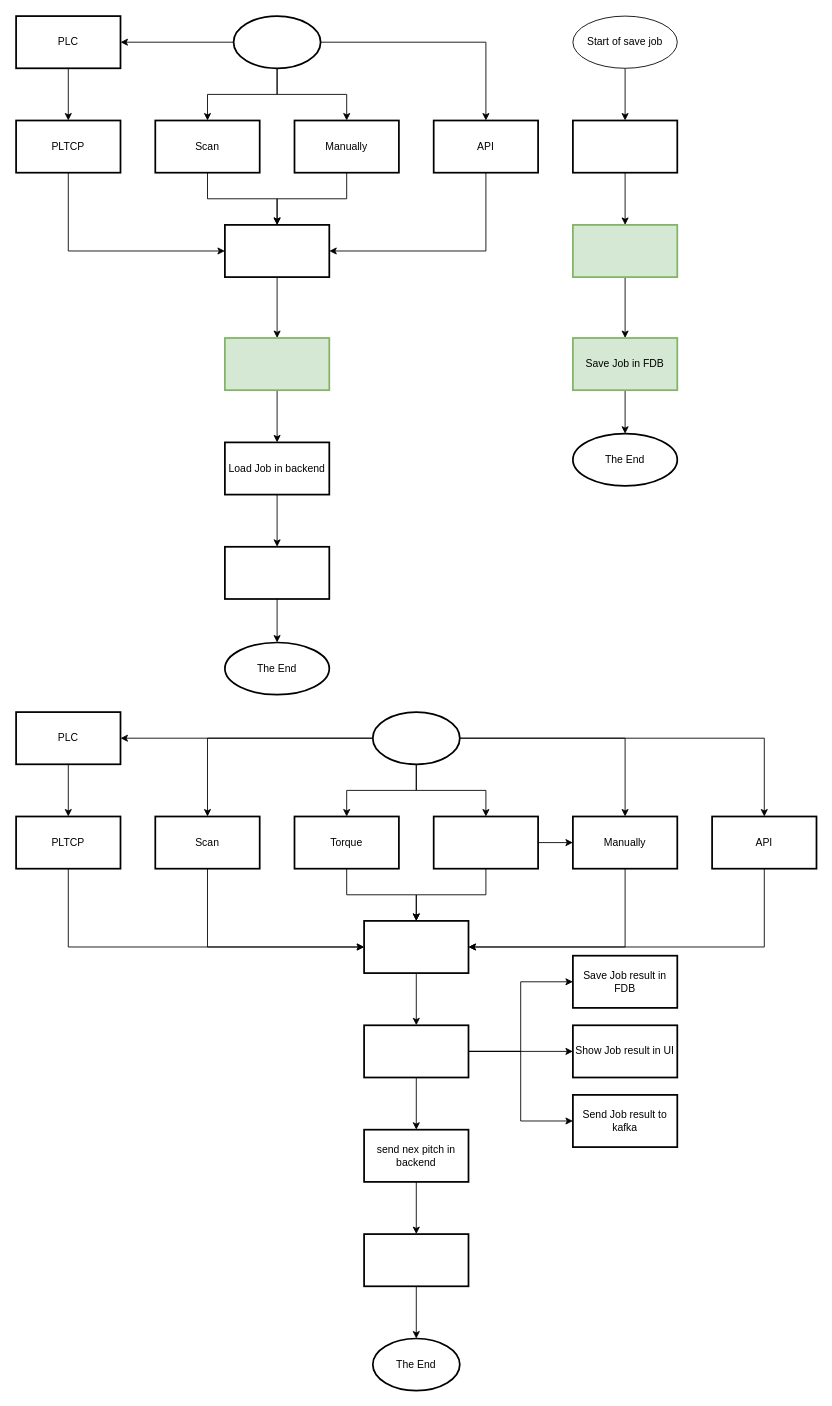
Some shapes in this 832 by 1406 pixel diagram are drawn without their labels. Each missing label, with the centre of its shape:
Enter Station: the point at 277,251
Get Dispatch from kafka: the point at 625,251
Input task result: the point at 416,947
leave station: the point at 416,1260
Search Job in FDB: the point at 277,364
Send Dispatch from MOS: the point at 625,146
Show Job in UI: the point at 277,572
Start of load Job: the point at 276,42
Start of running job: the point at 415,738
Tangent USB: the point at 485,842
Validate Task result in backend: the point at 416,1051
